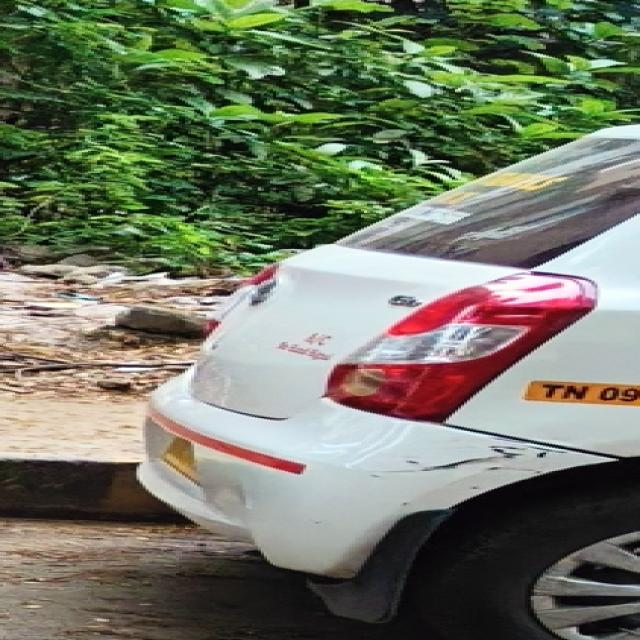scratch: (347, 436, 578, 488), (388, 496, 431, 510)
